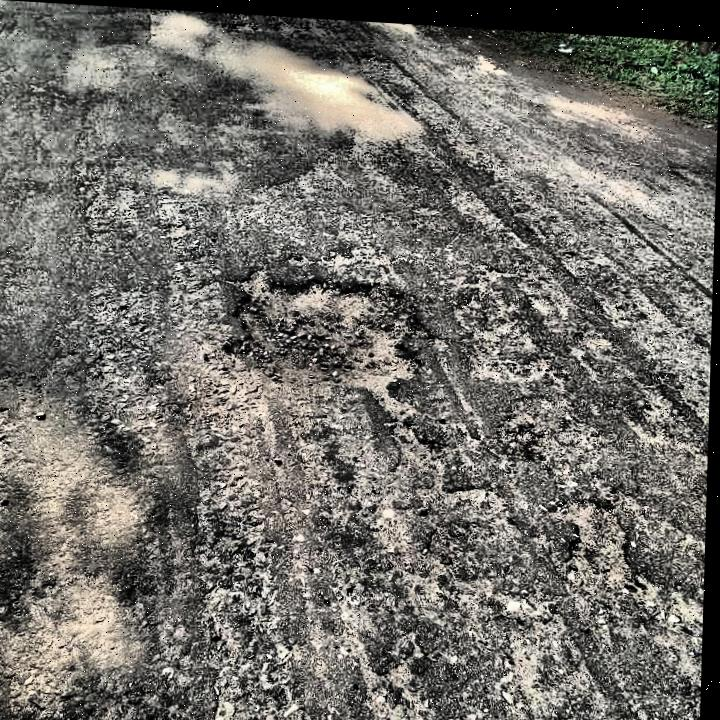pothole: (218, 259, 431, 406), (559, 492, 636, 579)
